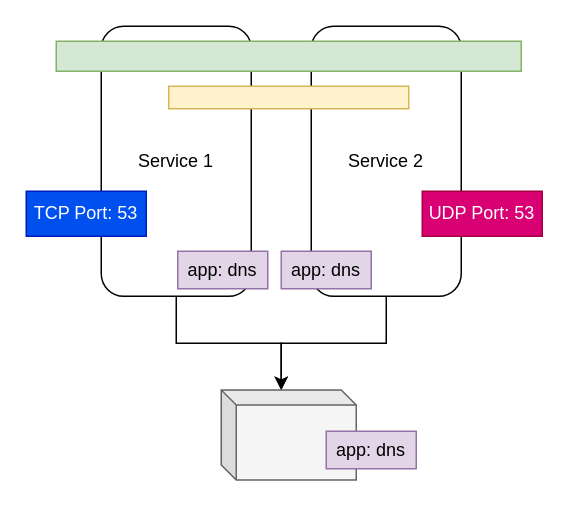
Some shapes in this 569 by 507 pixel diagram are drawn without their labels. The shapes that lost their labels are listed below. From the top down, each one's centre as x and y in pixels, then its label:
the point at 288,55: metallb.universe.tf/allow-shared-ip: "key-to-share-1.2.3.4"
the point at 288,97: loadBalancerIP: 1.2.3.4
the point at 288,434: Pod
